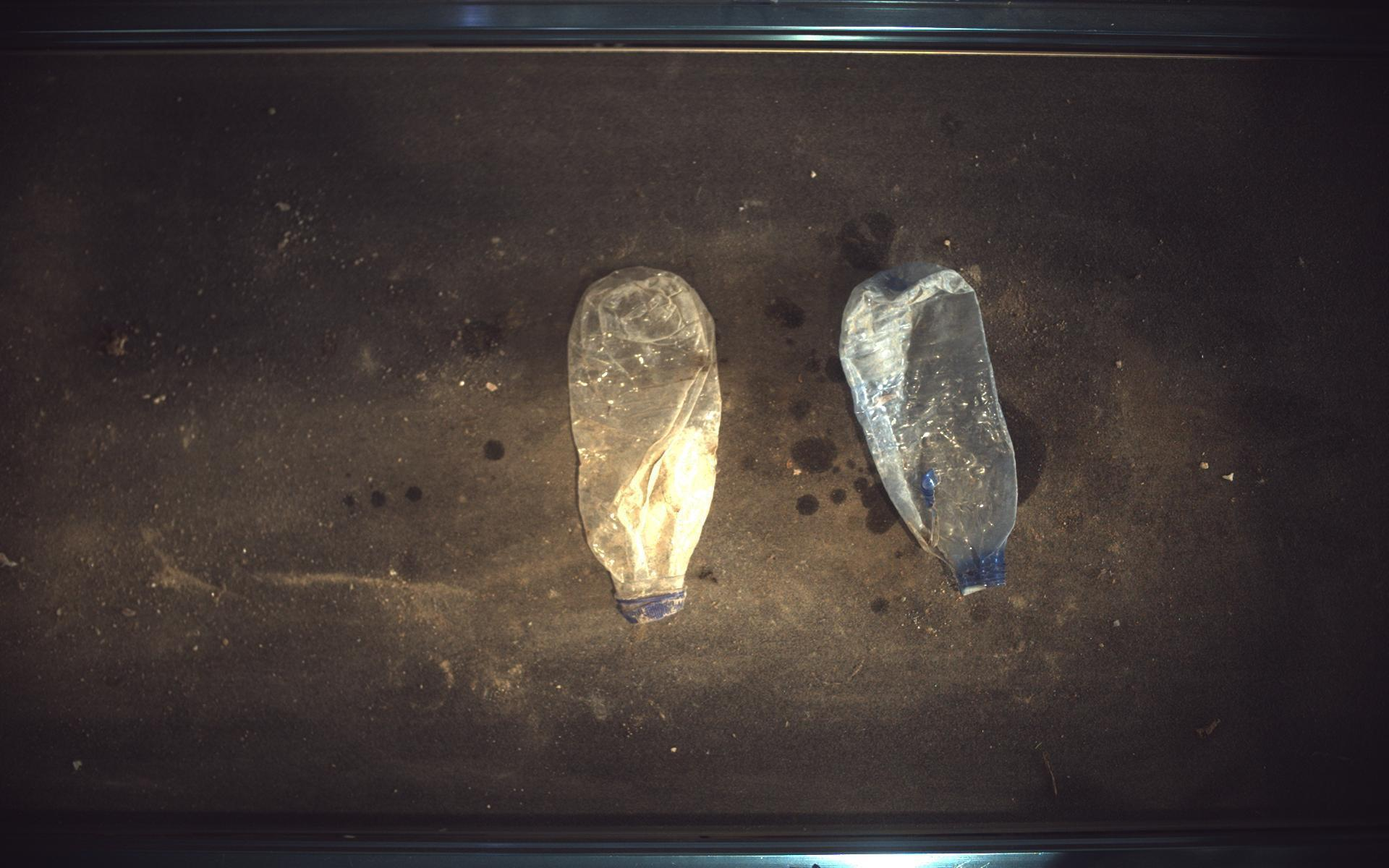general_w: (841, 262, 1019, 595), (569, 266, 723, 624)
